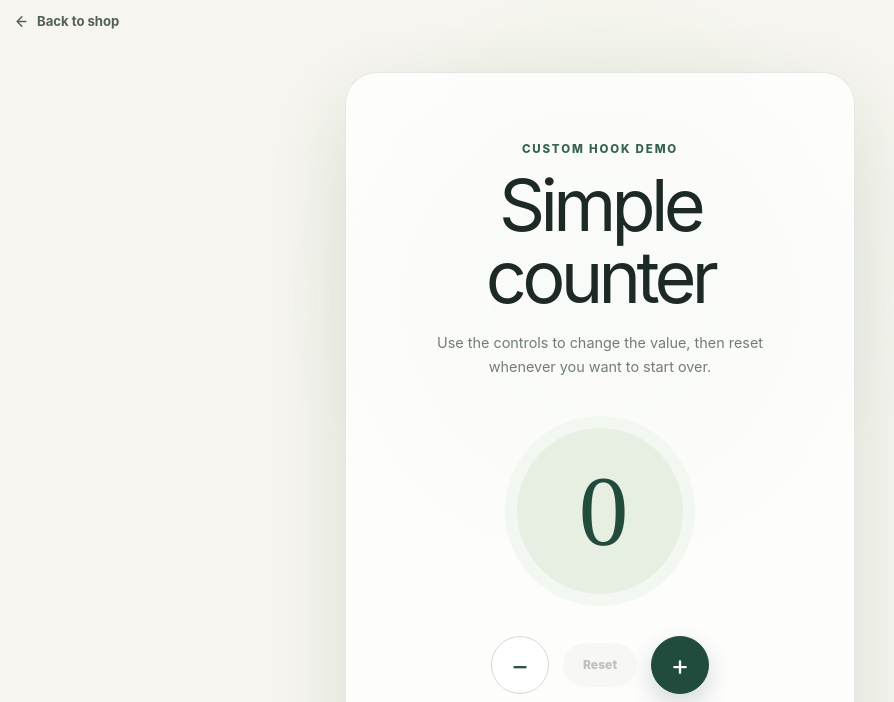
Counter Testing › decrement
This screenshot has width=894, height=702.
Expected: the text named "Current count: 0" is shown, [505,416,695,606]
Click the button named "Increase count". click: (680,665)
box: [651,636,709,694]
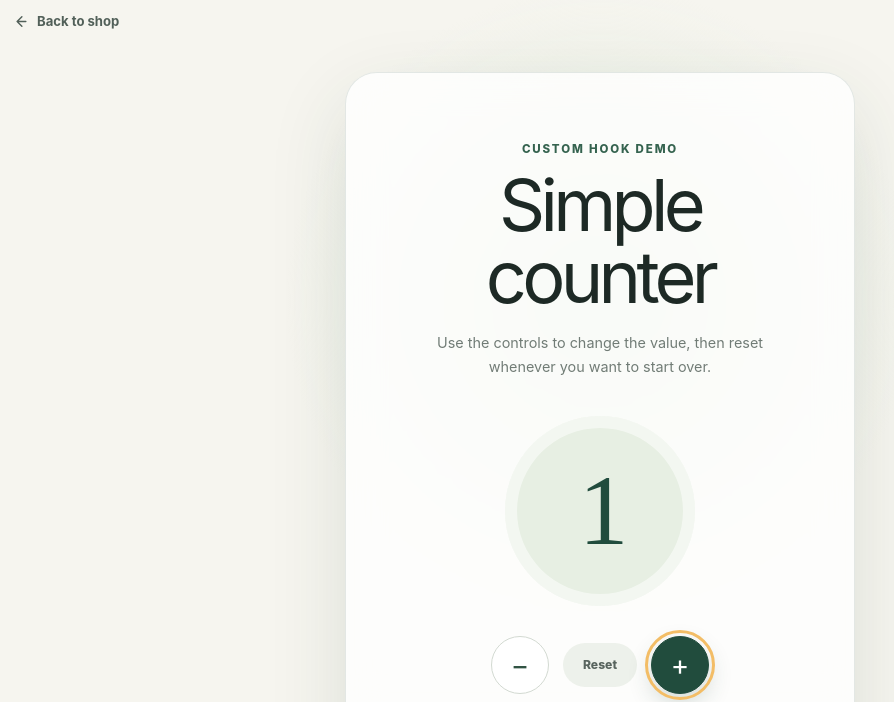
Result: the text named "Current count: 1" is shown at [505,416,695,606]
Click the button named "Increase count". click: (680,665)
box: [651,636,709,694]
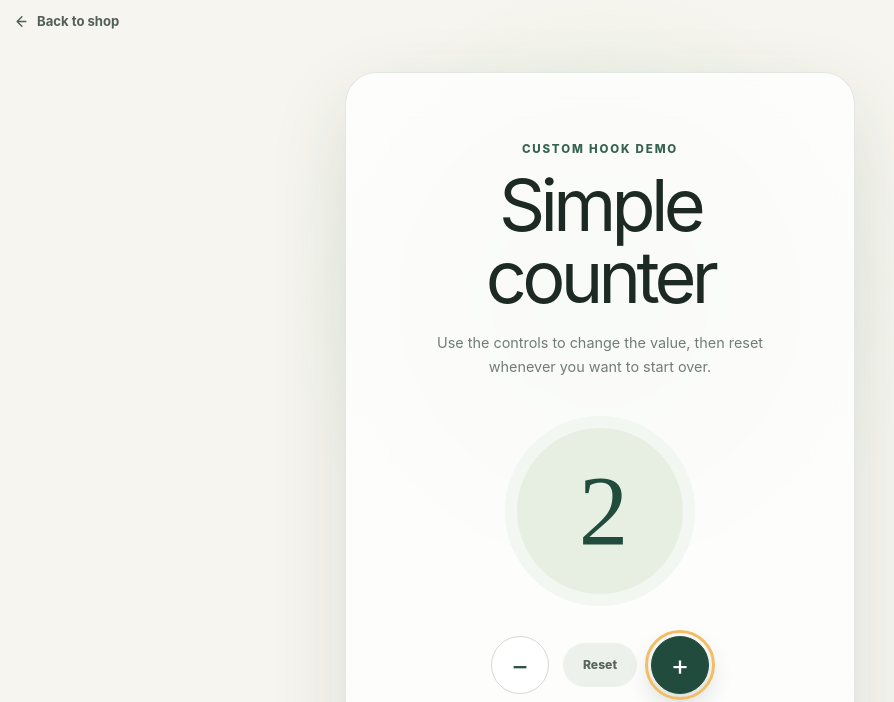
Result: the text named "Current count: 2" is shown at [505,416,695,606]
Click the button named "decrease count". click: (520,665)
box: [491,636,549,694]
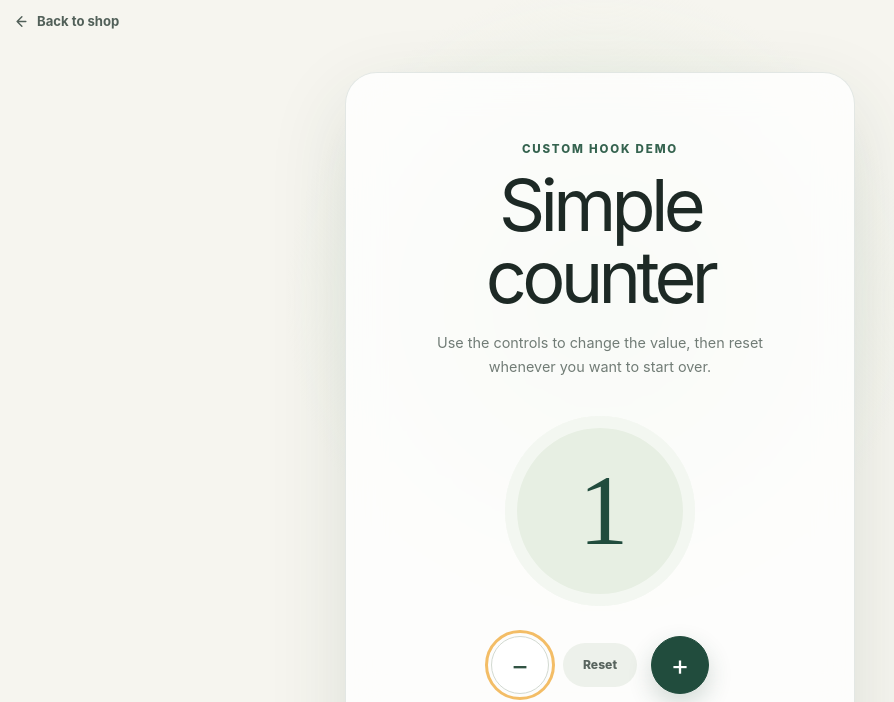
Result: the text named "Current count: 1" is shown at [505,416,695,606]
